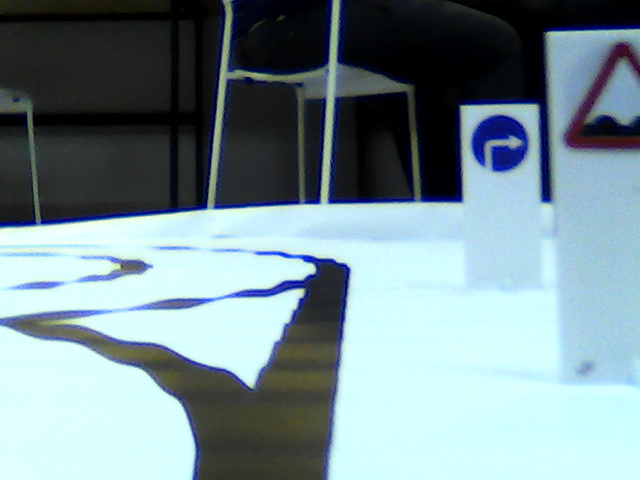Nerov: (563, 41, 640, 153)
Right: (471, 116, 531, 173)
